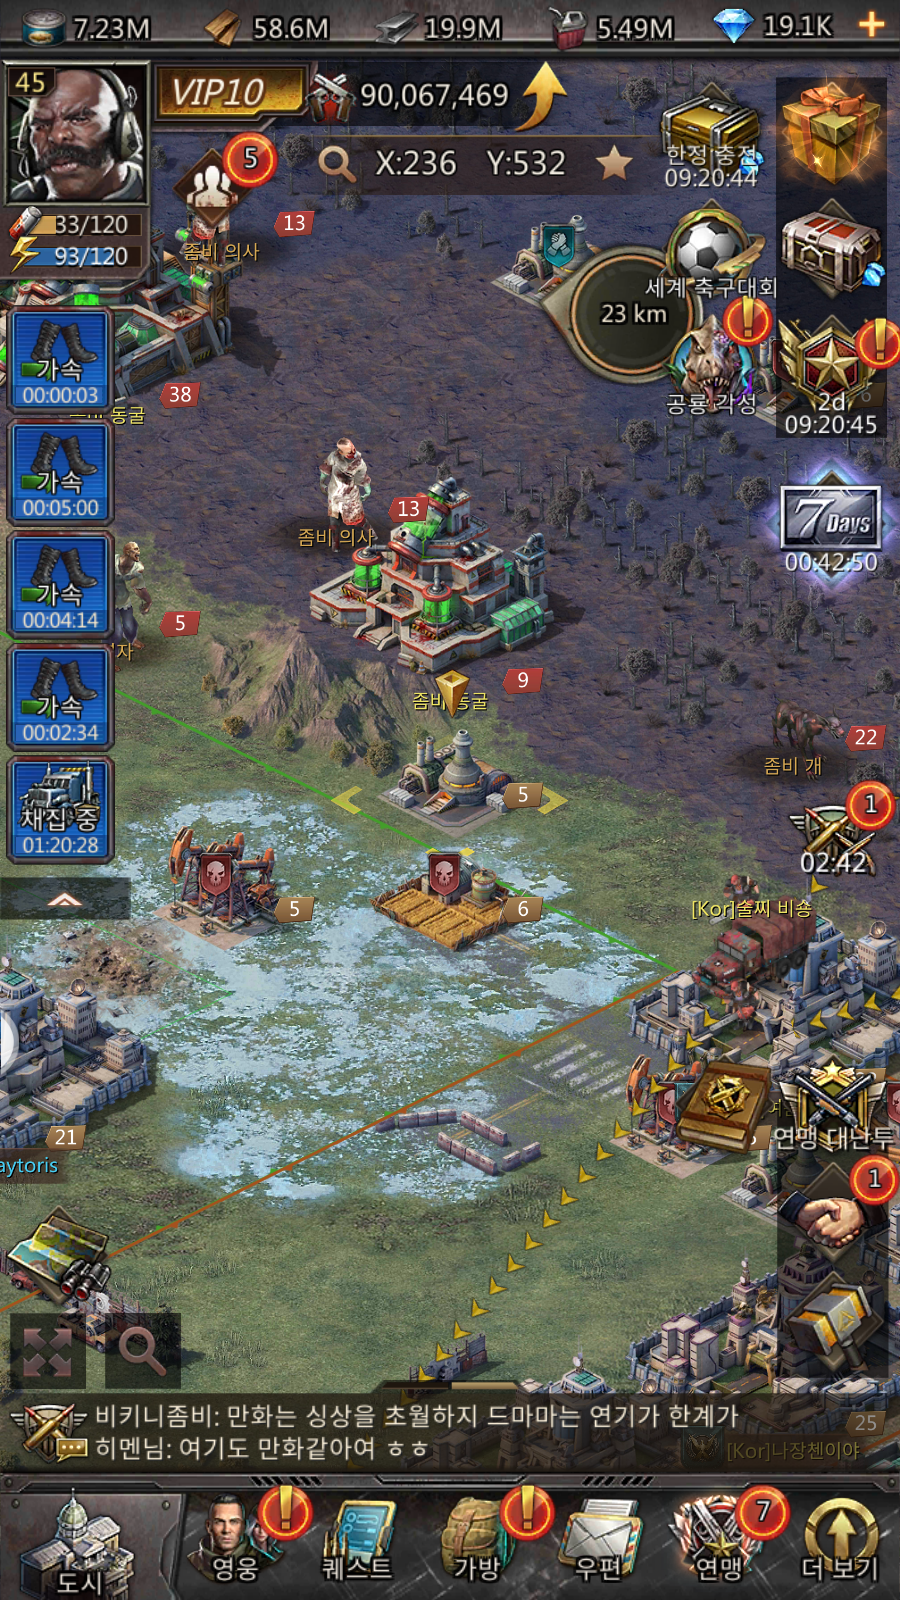city: (13, 1493, 184, 1600)
empty_steel: (300, 657, 593, 876)
open_panel: (93, 1296, 200, 1405)
troops_cnt_5: (151, 110, 288, 271)
